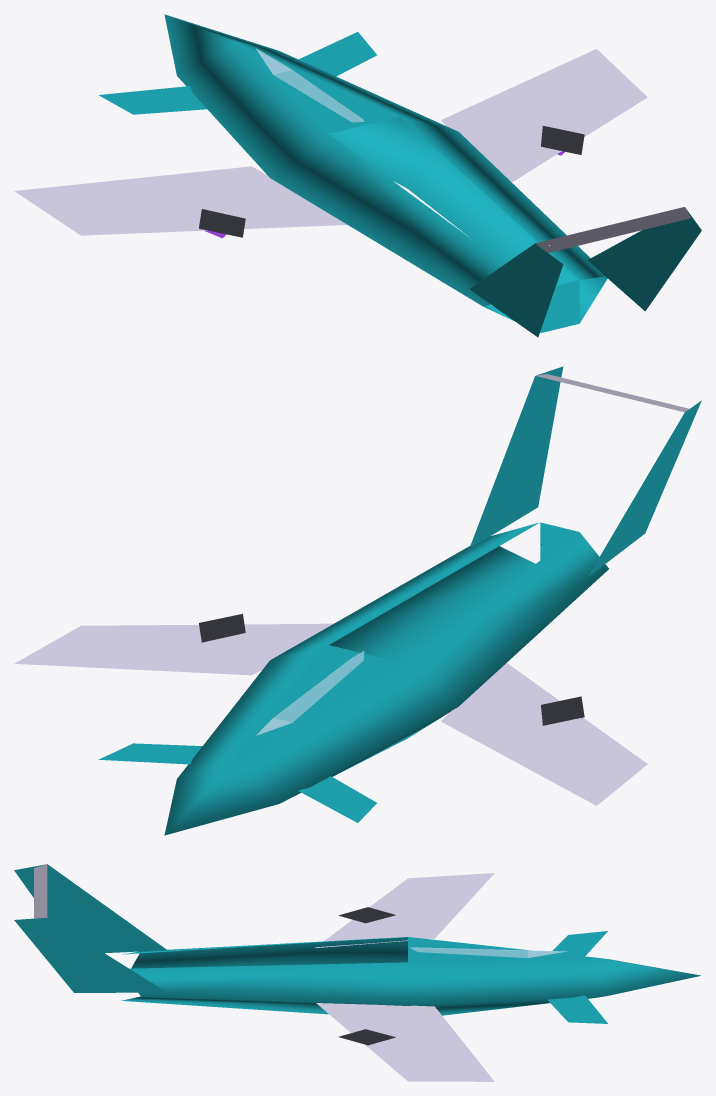
Rendered from AuroraScout.obj.
3 views of the same model, one above another, from view 1: azimuth 30°, elevation 25°; view 2: azimuth 150°, elevation 25°; view 3: azimuth 270°, elevation 25° (orthographic). The views are drawn at different scales.
Visible parts, largest first — view 1: AuroraScout_Complete; view 2: AuroraScout_Complete; view 3: AuroraScout_Complete.
Boxes of the visible parts, x1=… form: AuroraScout_Complete: x1=14, y1=14, x2=701, y2=337; AuroraScout_Complete: x1=14, y1=366, x2=701, y2=835; AuroraScout_Complete: x1=14, y1=864, x2=700, y2=1081.
Bounding box in the file's own units: 7.4 × 1.87 × 10.3.
